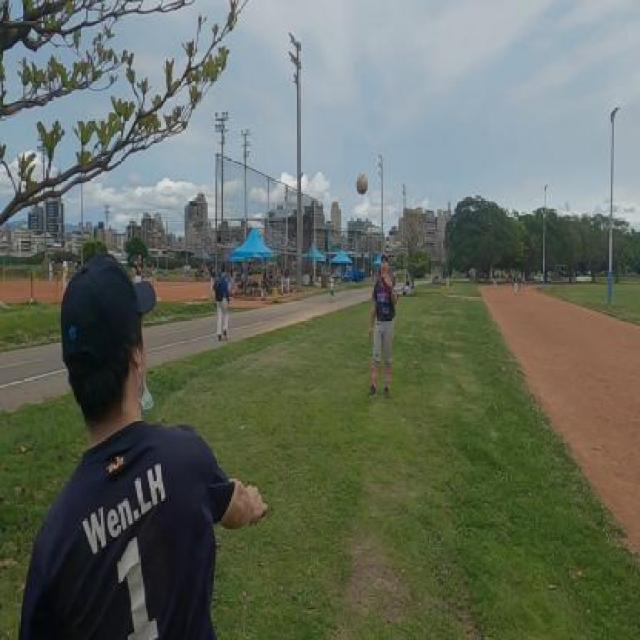baseball: (356, 173, 369, 196)
